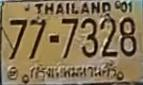2: (100, 16, 116, 56)
3: (80, 17, 97, 57)
7: (8, 19, 26, 59), (29, 18, 46, 58), (61, 17, 77, 58)
8: (119, 16, 136, 55)
BKK: (28, 62, 117, 79)
